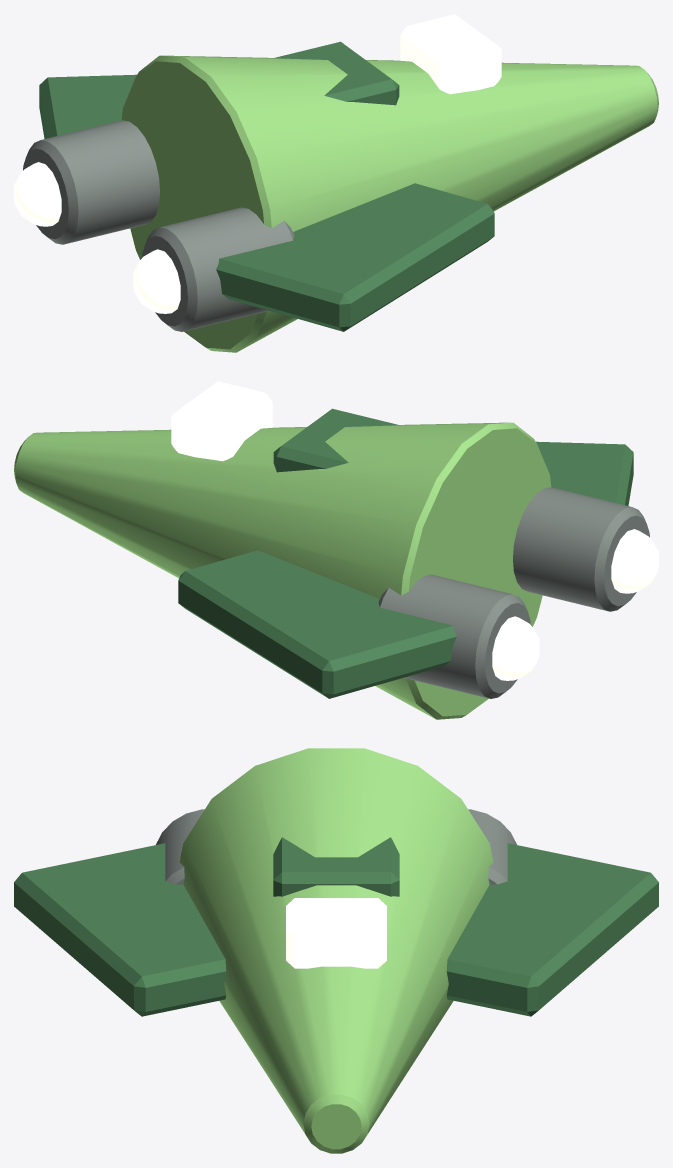
The model's file is enemy_scout.glb.
3 views of the same model, one above another, from view 1: azimuth 30°, elevation 25°; view 2: azimuth 150°, elevation 25°; view 3: azimuth 270°, elevation 25° (orthographic). The views are drawn at different scales.
Visible parts, largest first — view 1: Cone, Cube.001, Cylinder.001, Cylinder, Cube.003, Cube.002, Cube, Sphere.001, Sphere; view 2: Cone, Cube.002, Cylinder, Cylinder.001, Cube.003, Cube.001, Cube, Sphere, Sphere.001; view 3: Cone, Cube.001, Cube.002, Cube.003, Cube, Cylinder, Cylinder.001.
Part boxes in pixels (x1,y1,x2,y2): Cone: (121, 55, 658, 352); Cube.001: (216, 183, 494, 331); Cylinder.001: (23, 120, 159, 244); Cylinder: (142, 207, 294, 331); Cube.003: (400, 14, 501, 94); Cube.002: (39, 74, 136, 138); Cube: (273, 41, 399, 105); Sphere.001: (14, 162, 61, 226); Sphere: (133, 249, 180, 313); Cone: (14, 422, 551, 719); Cube.002: (178, 550, 456, 698); Cylinder: (513, 487, 649, 611); Cylinder.001: (378, 574, 530, 698); Cube.003: (171, 381, 272, 461); Cube.001: (536, 441, 633, 505); Cube: (273, 408, 399, 472); Sphere: (611, 529, 658, 593); Sphere.001: (492, 616, 539, 680); Cone: (179, 748, 493, 1153); Cube.001: (14, 843, 226, 1016); Cube.002: (446, 843, 658, 1016); Cube.003: (286, 898, 386, 968); Cube: (273, 837, 399, 896); Cylinder: (156, 809, 204, 884); Cylinder.001: (468, 809, 516, 884).
Size of the model in its own units: 1.1 by 0.5075 by 1.02.
